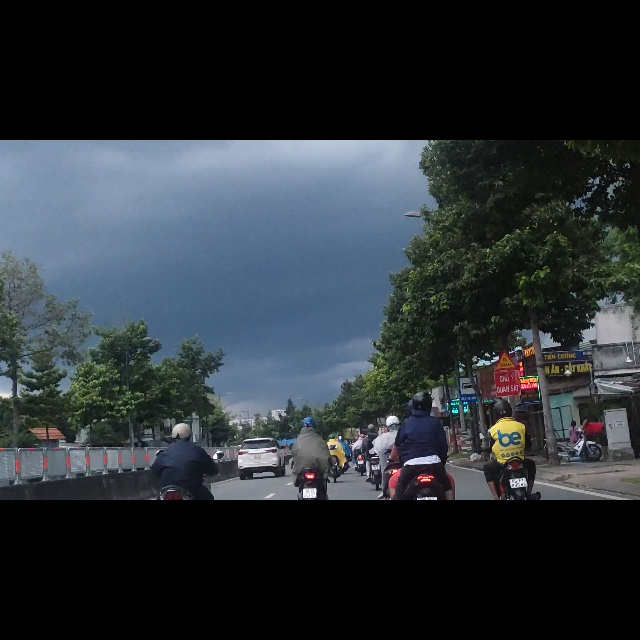bien_nguy_hiem: (457, 417, 479, 466), (494, 374, 517, 409)
